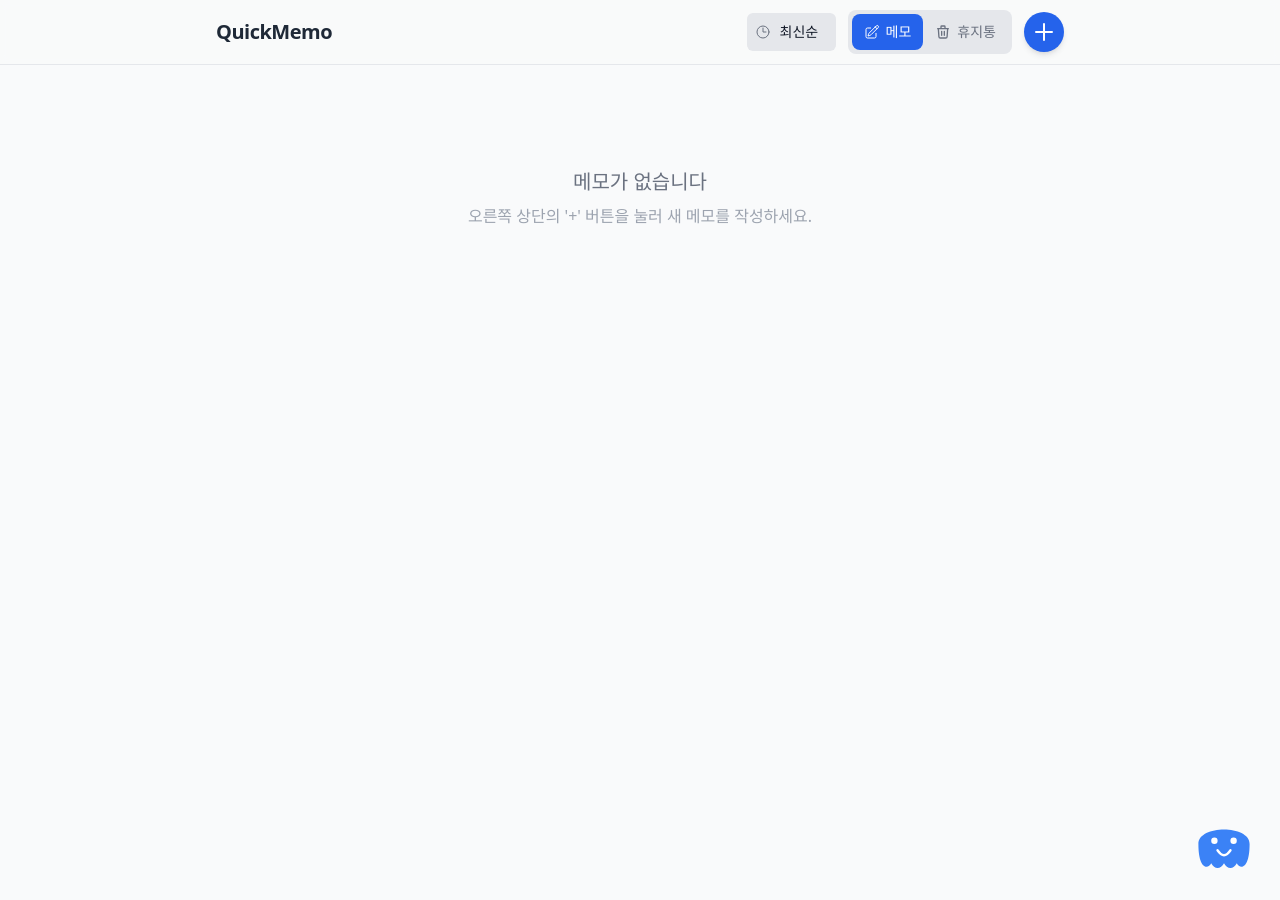
QuickMemo App Integration Tests › TC-B-03: should restore a memo from the trash
Go to trash
Click the button "휴지통": [966, 32] box [923,14,1008,50]
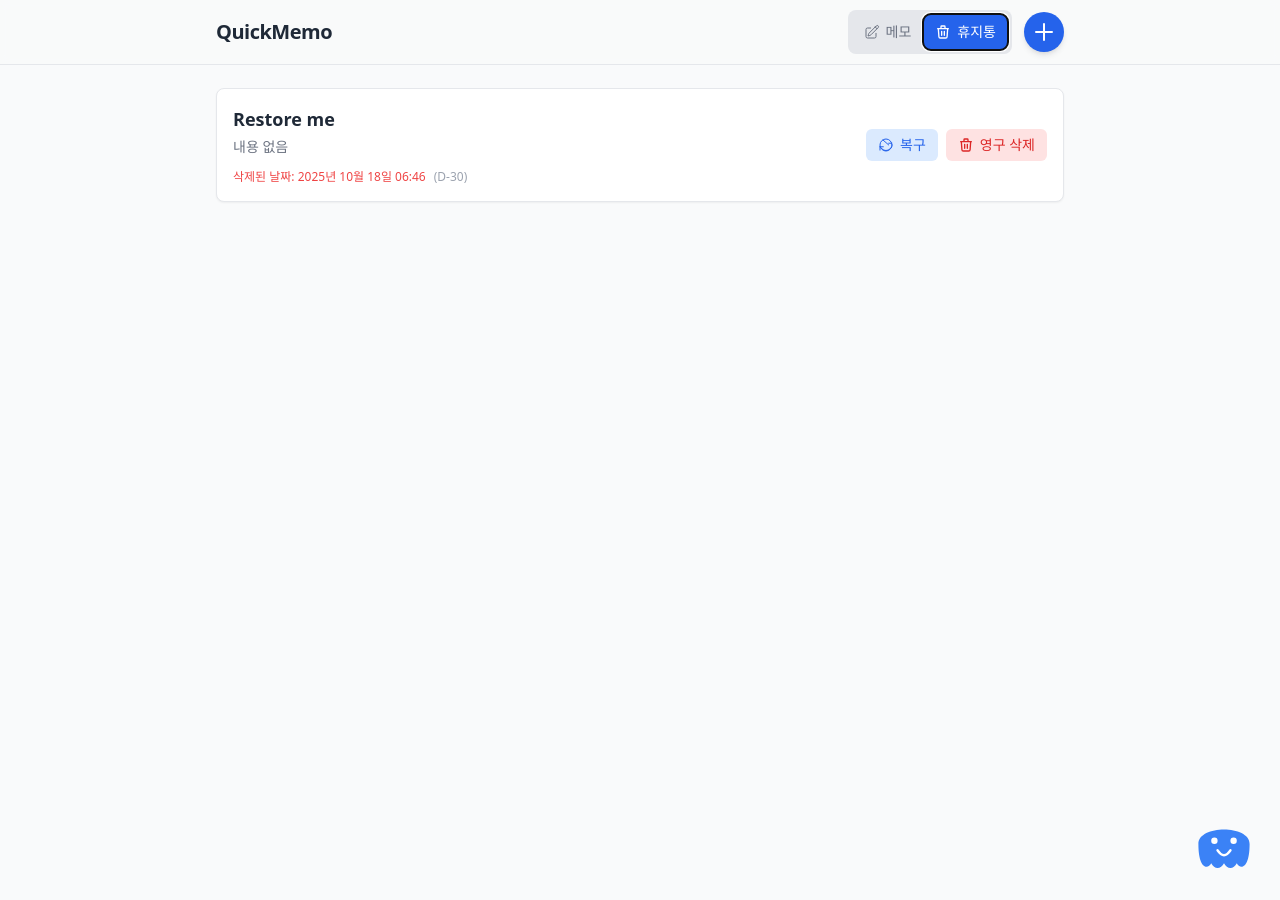
Check: the heading "Restore me" is shown, box [233,107,335,131]
Click restore
Click the button "복구": [902, 145] box [866,129,938,161]
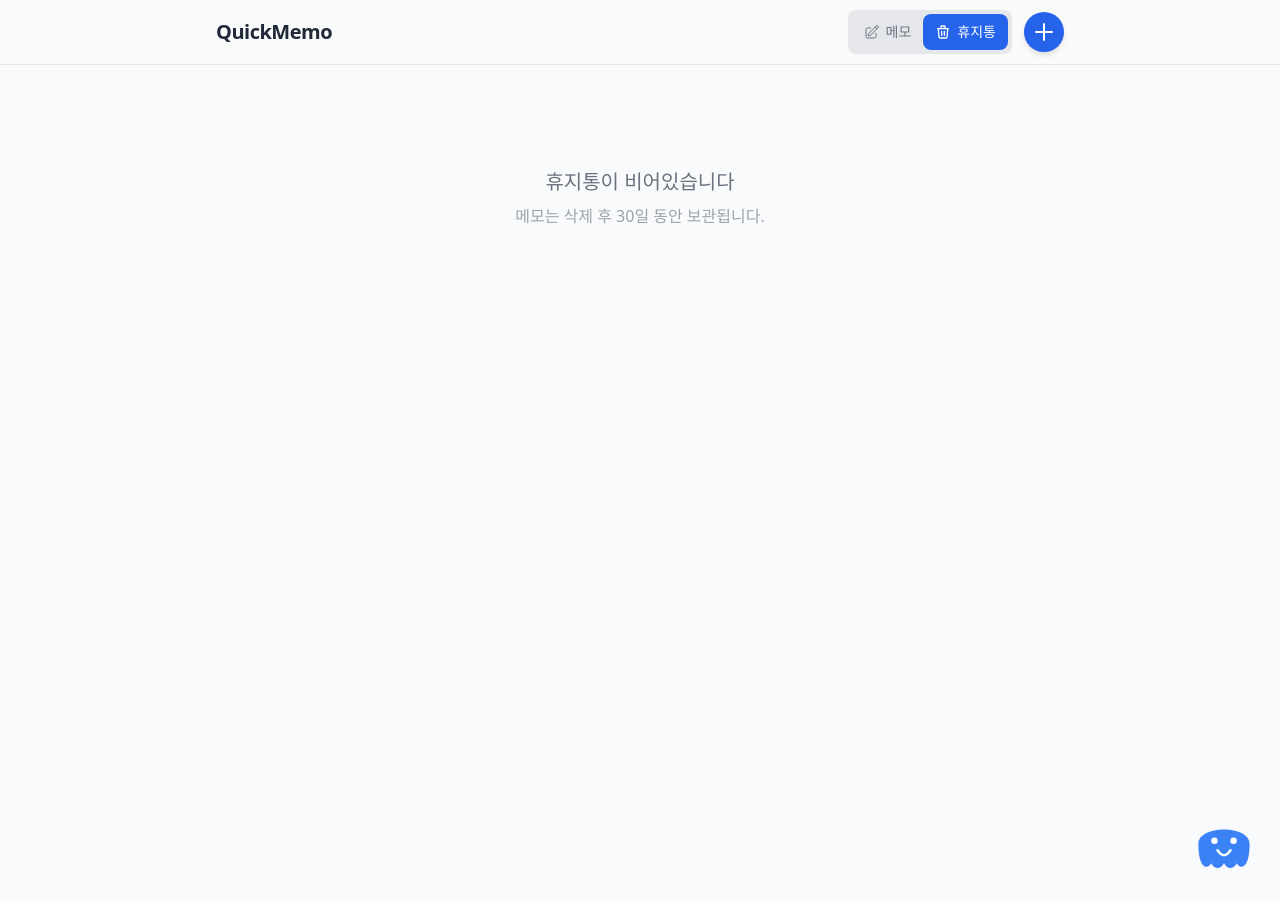
Check: the heading "휴지통이 비어있습니다" is shown, box [545,168,735,195]
Go back to memo list
Click the button "메모": [888, 32] box [852,14,923,50]
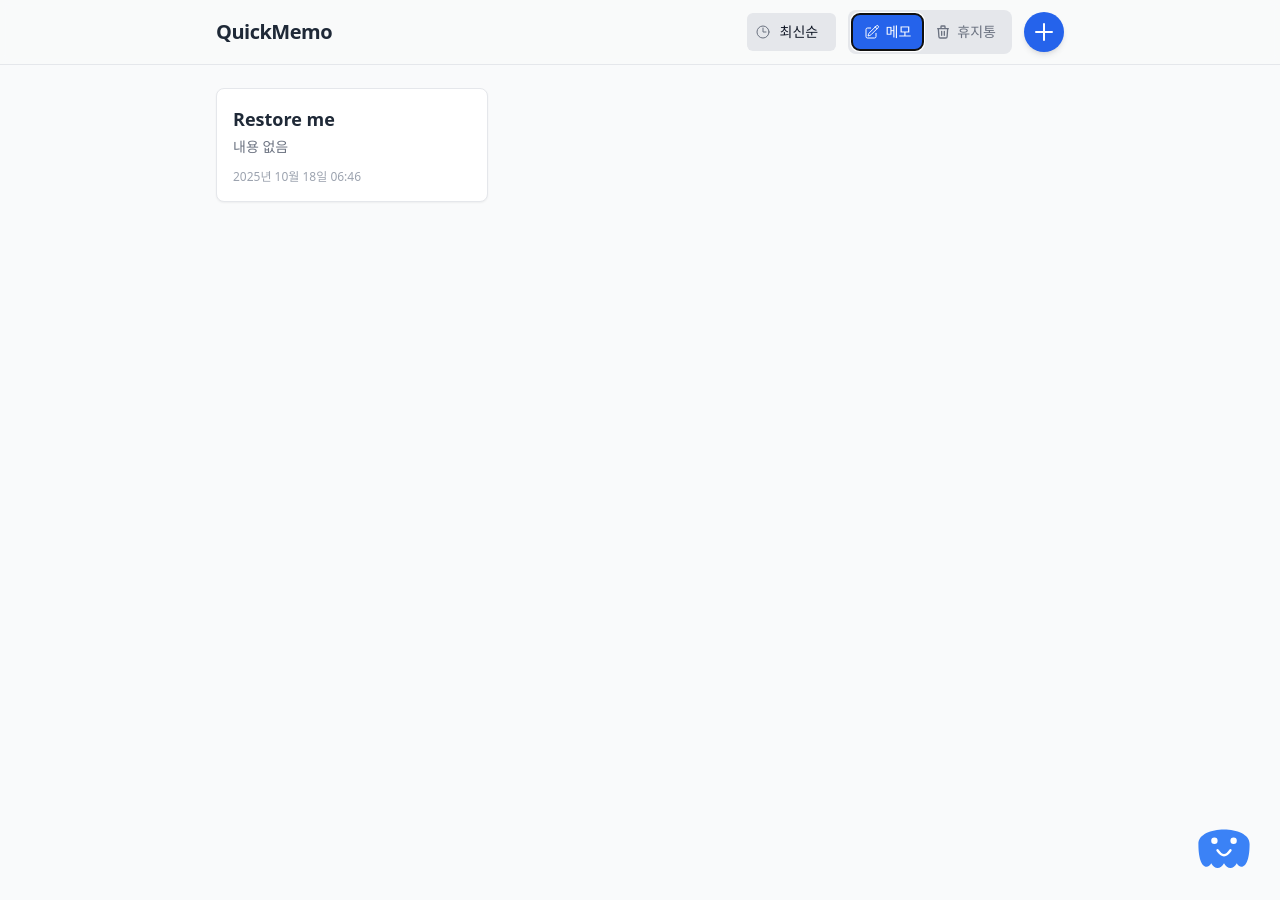
Check: the heading "Restore me" is shown, box [233,107,335,131]
